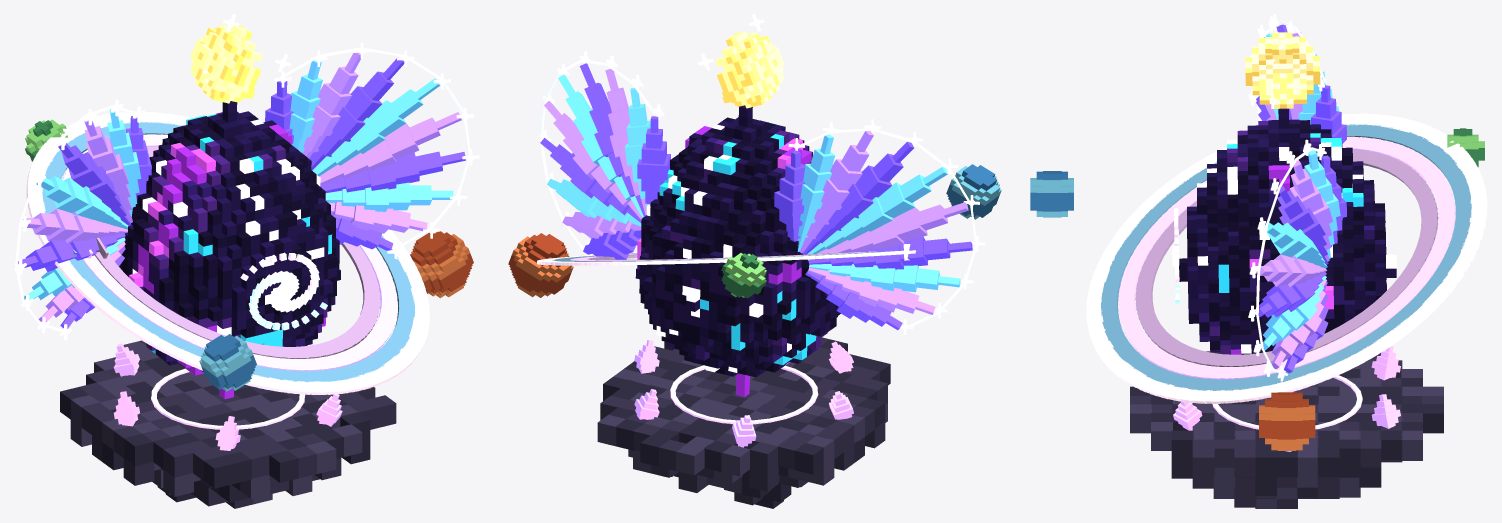
Rendered from egg_galaxy.glb.
3 views of the same model, side by side, from view 1: azimuth 30°, elevation 25°; view 2: azimuth 150°, elevation 25°; view 3: azimuth 270°, elevation 25° (orthographic). The views are drawn at different scales.
Visible parts, largest first — view 1: shell_geo, root_geo, rings_geo, wing_L_geo, wing_R_geo, moon_geo, planet0_geo, emblem_geo, planet1_geo, planet2_geo; view 2: shell_geo, root_geo, wing_R_geo, wing_L_geo, moon_geo, planet0_geo, rings_geo, planet1_geo, planet2_geo; view 3: rings_geo, root_geo, shell_geo, wing_L_geo, moon_geo, planet0_geo, wing_R_geo, planet1_geo, planet2_geo, emblem_geo.
Part boxes in pixels (bbox=[...]): shell_geo: bbox=[119, 101, 340, 399]; root_geo: bbox=[60, 340, 396, 508]; rings_geo: bbox=[26, 112, 429, 394]; wing_L_geo: bbox=[265, 42, 479, 259]; wing_R_geo: bbox=[14, 100, 151, 340]; moon_geo: bbox=[190, 14, 291, 103]; planet0_geo: bbox=[410, 231, 473, 298]; emblem_geo: bbox=[240, 252, 327, 330]; planet1_geo: bbox=[199, 334, 256, 391]; planet2_geo: bbox=[25, 119, 67, 161]; shell_geo: bbox=[635, 105, 840, 397]; root_geo: bbox=[597, 337, 890, 508]; wing_R_geo: bbox=[774, 119, 985, 334]; wing_L_geo: bbox=[539, 51, 670, 259]; moon_geo: bbox=[697, 14, 784, 108]; planet0_geo: bbox=[508, 233, 573, 297]; rings_geo: bbox=[537, 244, 915, 265]; planet1_geo: bbox=[946, 164, 1001, 219]; planet2_geo: bbox=[721, 253, 766, 298]; rings_geo: bbox=[1086, 113, 1487, 403]; root_geo: bbox=[1130, 346, 1443, 508]; shell_geo: bbox=[1179, 108, 1396, 392]; wing_L_geo: bbox=[1248, 139, 1346, 381]; moon_geo: bbox=[1245, 16, 1320, 108]; planet0_geo: bbox=[1259, 392, 1315, 450]; wing_R_geo: bbox=[1248, 14, 1346, 143]; planet1_geo: bbox=[1030, 171, 1073, 217]; planet2_geo: bbox=[1447, 128, 1484, 167]; emblem_geo: bbox=[1172, 208, 1179, 303].
Size of the model in its own units: 10.26 by 10.1 by 8.77.
